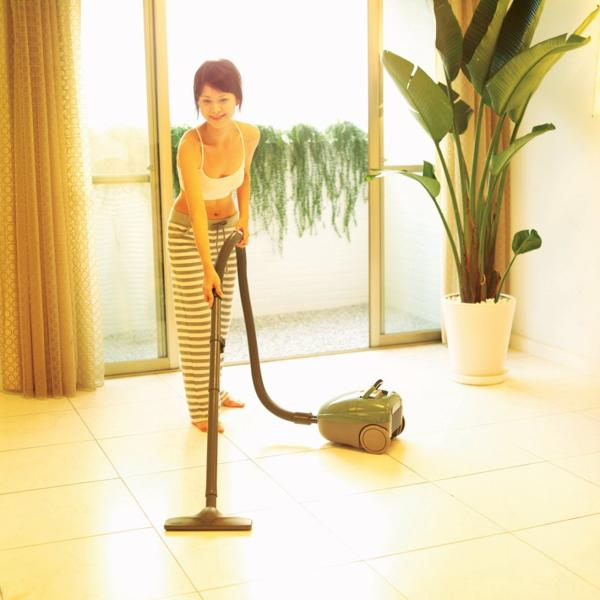person: (168, 59, 264, 438)
